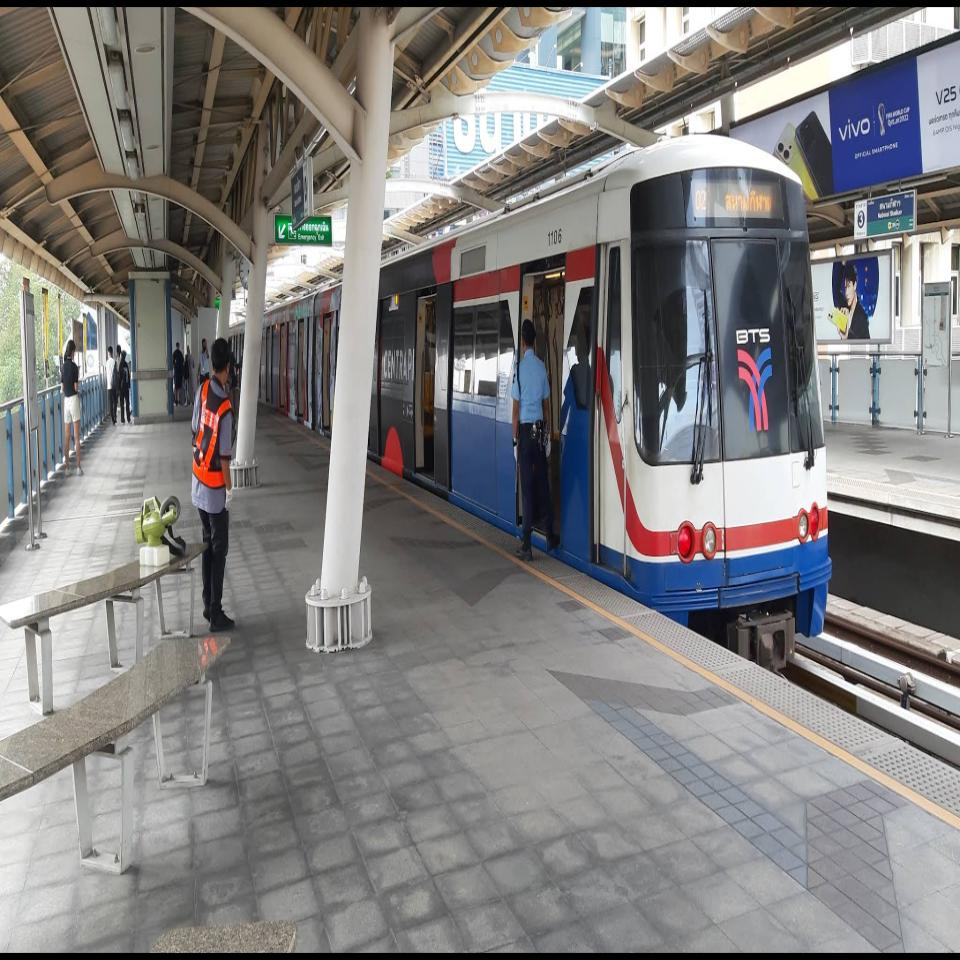National Stadium: (877, 191, 903, 238)
